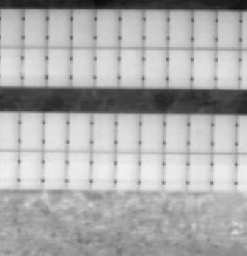solar: (20, 7, 50, 48), (43, 7, 73, 48), (69, 7, 99, 48), (92, 7, 122, 48), (118, 7, 148, 48), (141, 7, 171, 48), (166, 8, 196, 49), (189, 8, 219, 49), (214, 8, 244, 49), (19, 46, 49, 87), (44, 46, 74, 87), (68, 46, 98, 87), (92, 46, 122, 87), (117, 46, 147, 87), (139, 47, 169, 88), (165, 47, 195, 88), (189, 47, 219, 88), (213, 47, 243, 88), (16, 110, 46, 151), (39, 110, 69, 151), (65, 110, 95, 151), (88, 112, 118, 153), (112, 112, 142, 153), (136, 112, 166, 153), (160, 112, 190, 153), (185, 112, 215, 153), (209, 113, 239, 154), (15, 148, 45, 189), (40, 148, 70, 189), (64, 148, 94, 189), (88, 149, 118, 190), (112, 149, 142, 190), (136, 149, 166, 190), (159, 150, 189, 191), (184, 150, 214, 191), (209, 150, 239, 191), (1, 7, 30, 48)
